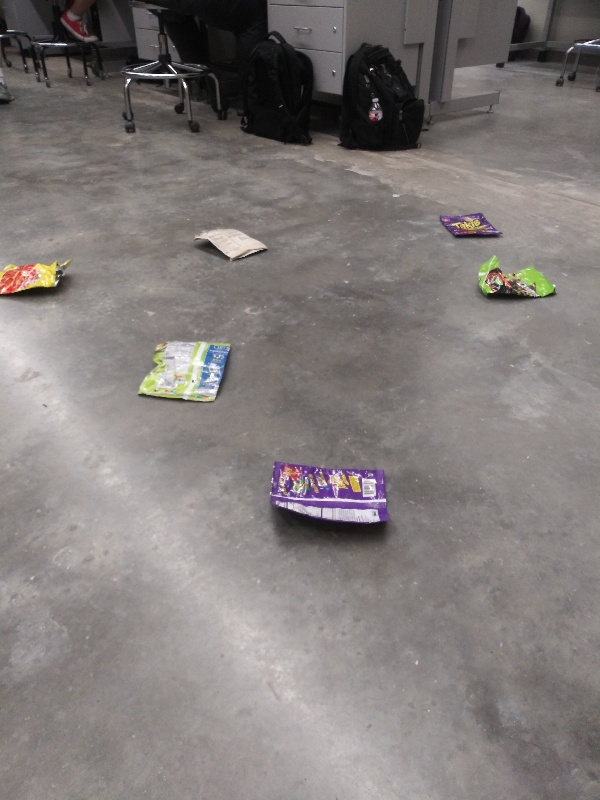bag: (265, 458, 396, 531), (136, 337, 234, 406), (474, 252, 560, 303), (1, 255, 75, 300), (191, 225, 272, 263), (436, 211, 504, 240)
bottle: (363, 92, 388, 123)
